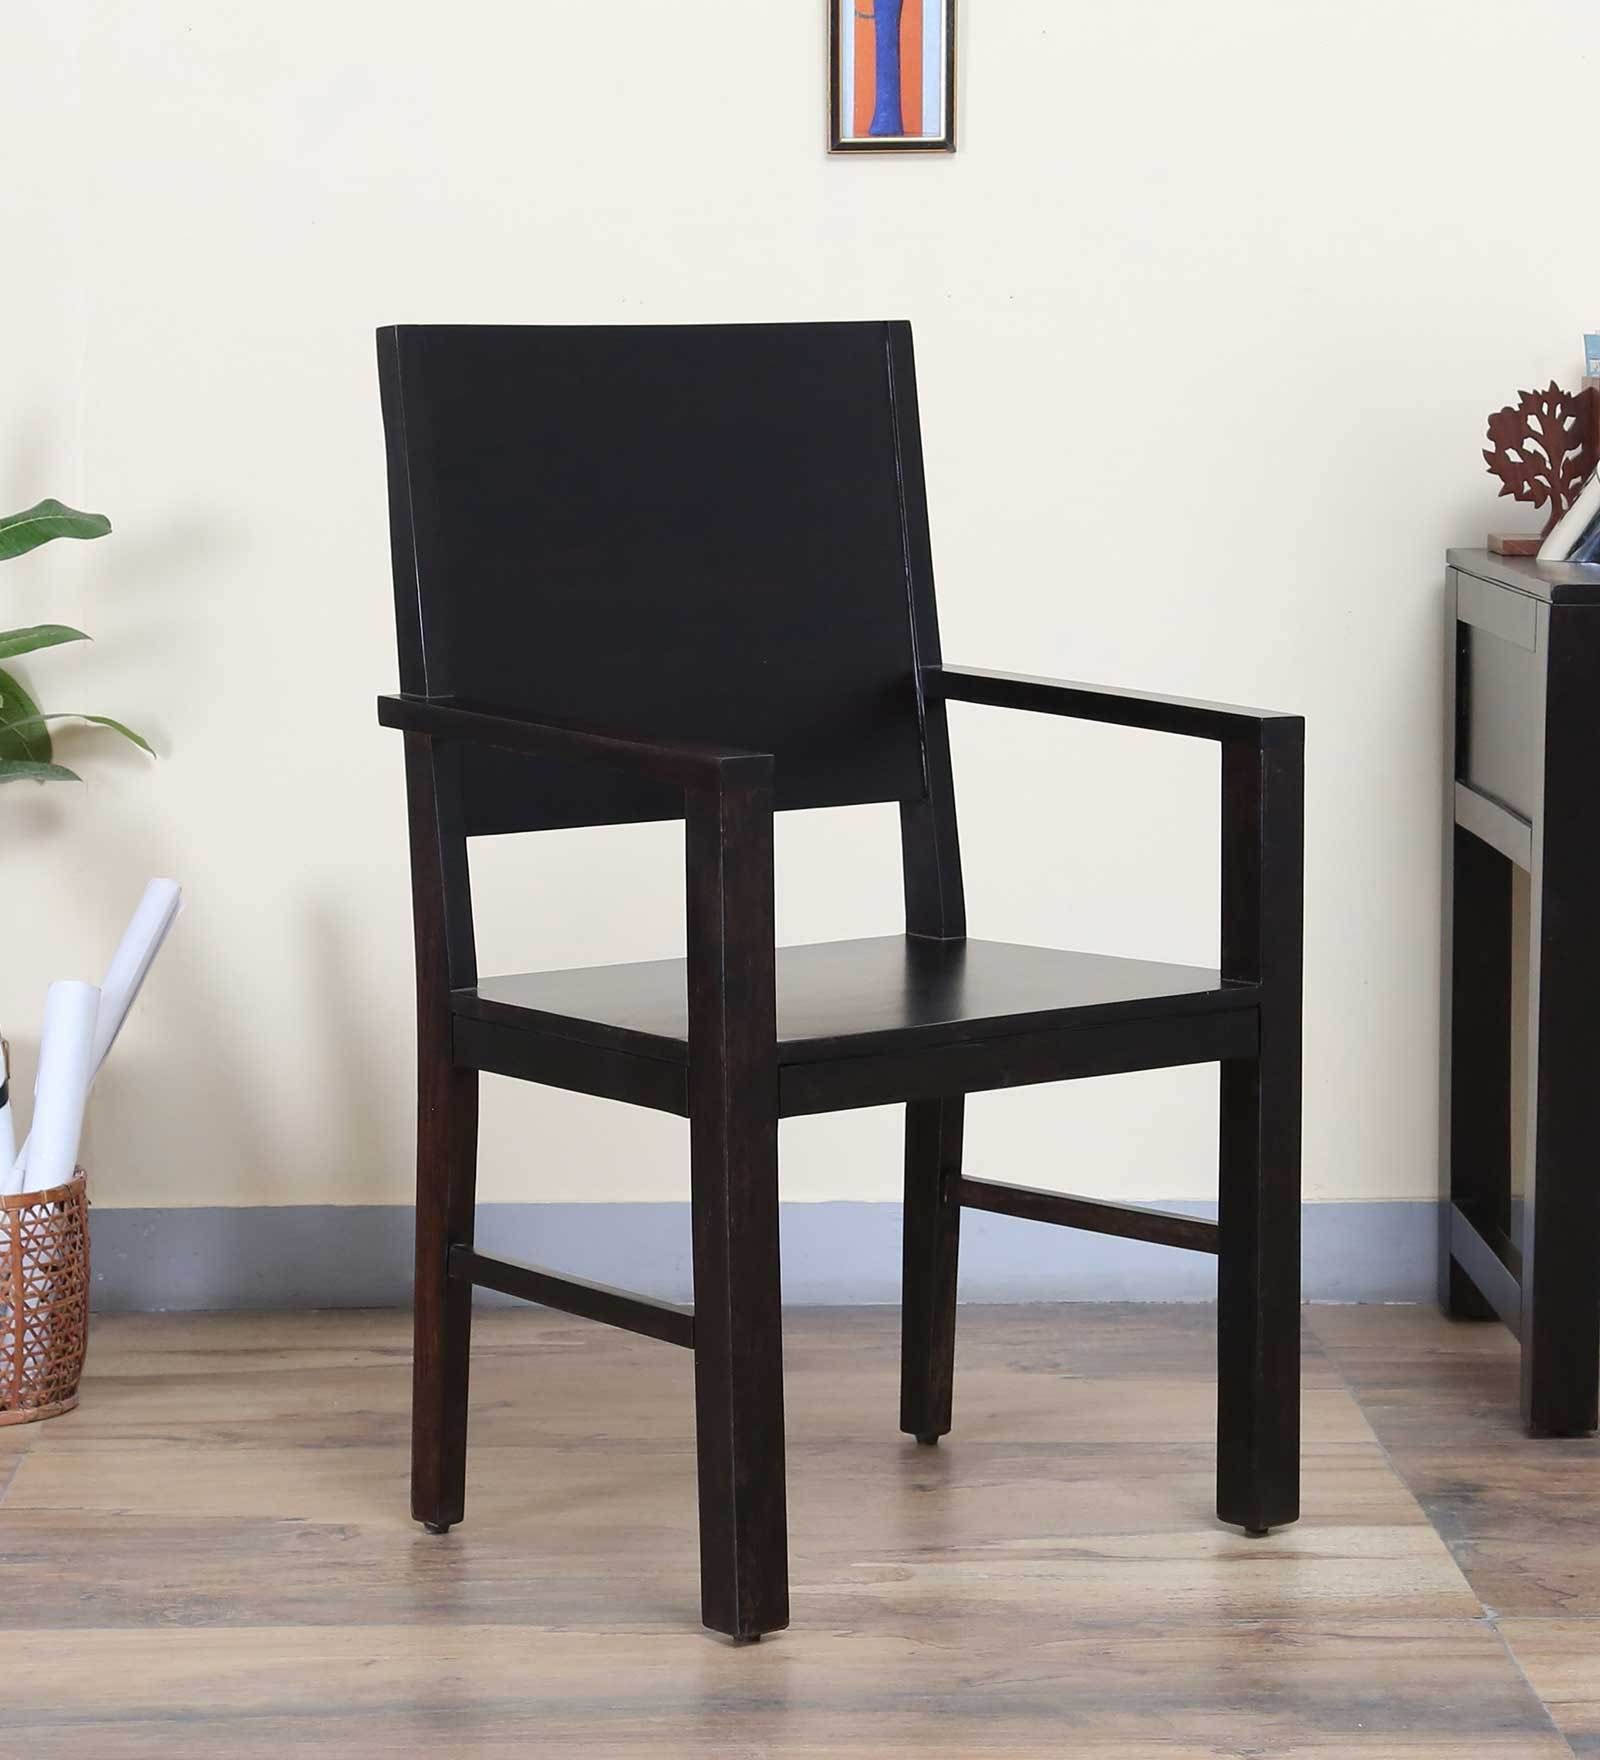Oriel Arm Chair in Warm Chestnut Finish by Woodsworth: (362, 317, 1324, 1648)
